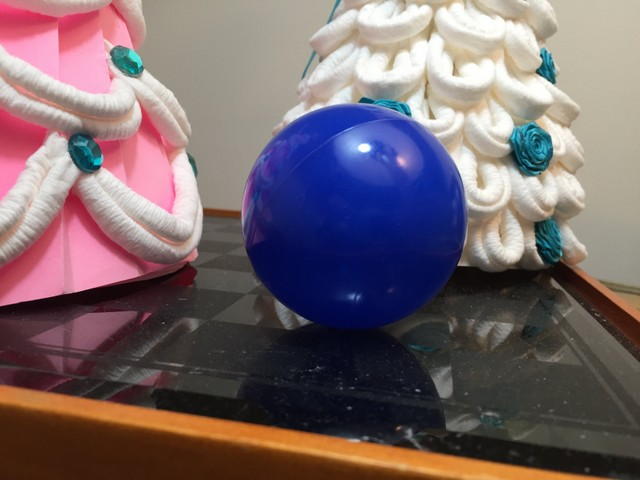Ball: (239, 103, 466, 328)
